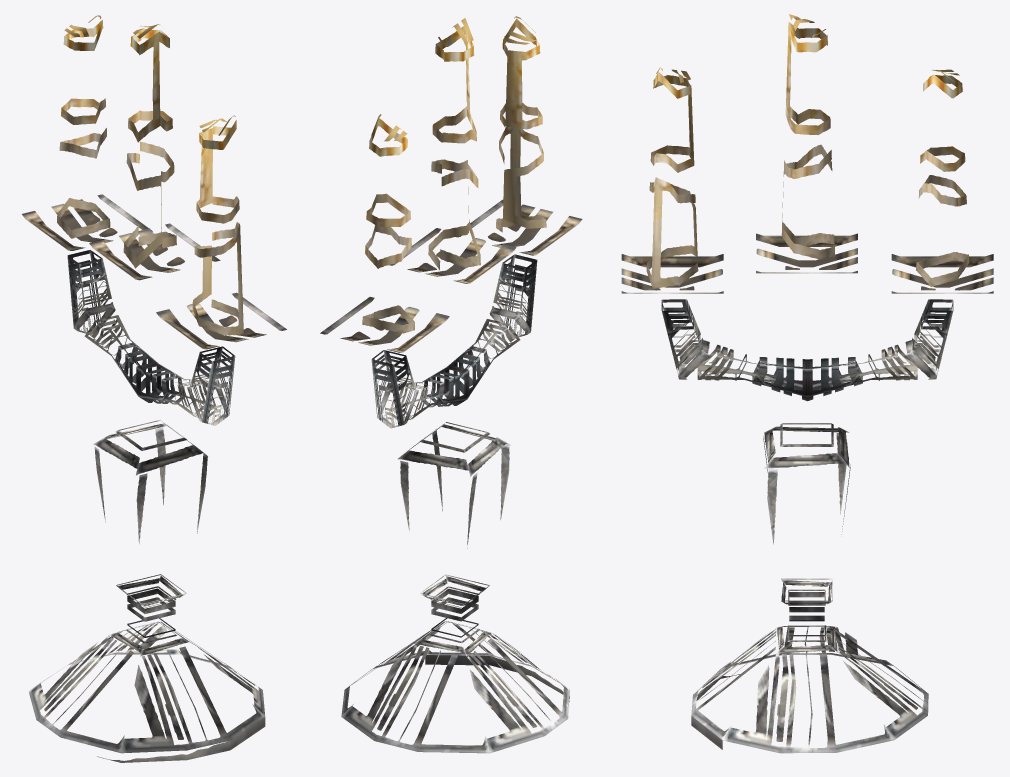
Rendered from generalcandelabra01.obj.
The picture shows the model from 3 angles, left to right: view 1: azimuth 30°, elevation 25°; view 2: azimuth 150°, elevation 25°; view 3: azimuth 270°, elevation 25°; orthographic projection.
Parts seen in each view (by area): view 1: generalcandelabra010; view 2: generalcandelabra010; view 3: generalcandelabra010.
Part boxes in pixels (x1,y1,x2,y2): generalcandelabra010: [22, 15, 286, 762]; generalcandelabra010: [320, 16, 582, 753]; generalcandelabra010: [621, 14, 993, 753].
Bounding box in the file's own units: 0.4182 × 1.39 × 0.6743.
1 material, 1 textured.
